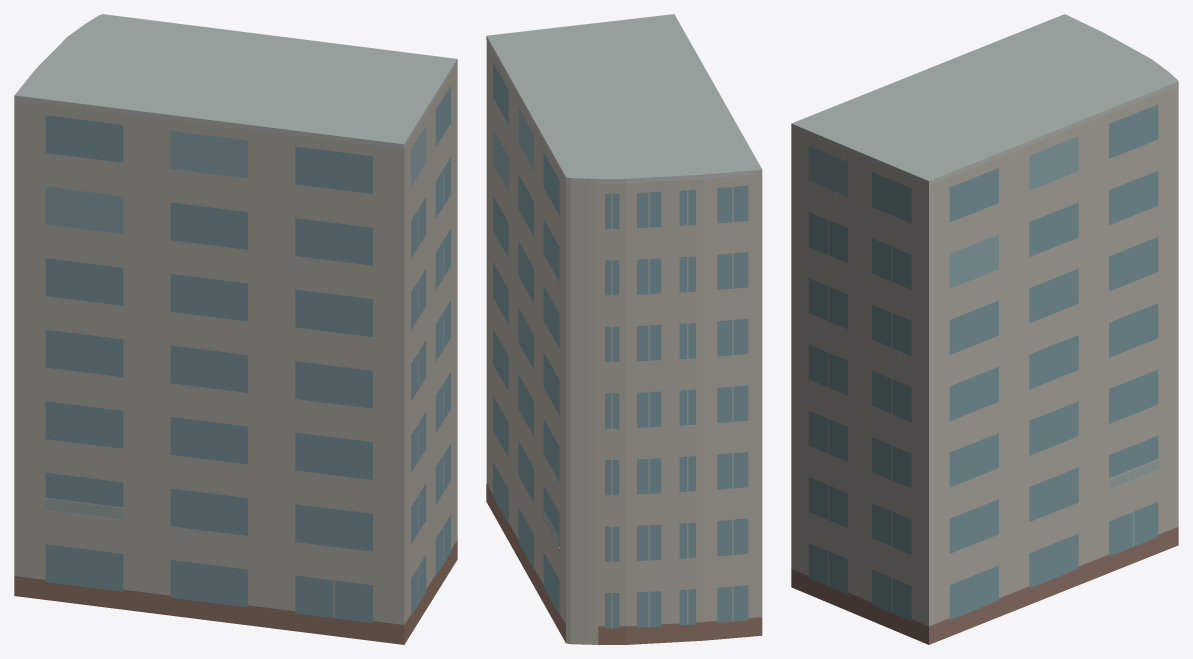
File: survey-upis-32563055.glb
3 views of the same model, side by side, from view 1: azimuth 30°, elevation 25°; view 2: azimuth 150°, elevation 25°; view 3: azimuth 270°, elevation 25° (orthographic). The views are drawn at different scales.
Parts seen in each view (by area): view 1: survey-upis-32563055.tmp; view 2: survey-upis-32563055.tmp; view 3: survey-upis-32563055.tmp.
Boxes of the visible parts, x1,y1,x2,y2 form: survey-upis-32563055.tmp: (14,14,457,644); survey-upis-32563055.tmp: (486,14,762,644); survey-upis-32563055.tmp: (791,14,1178,644).
Bounding box in the file's own units: 18.79 × 24.3 × 18.4.
